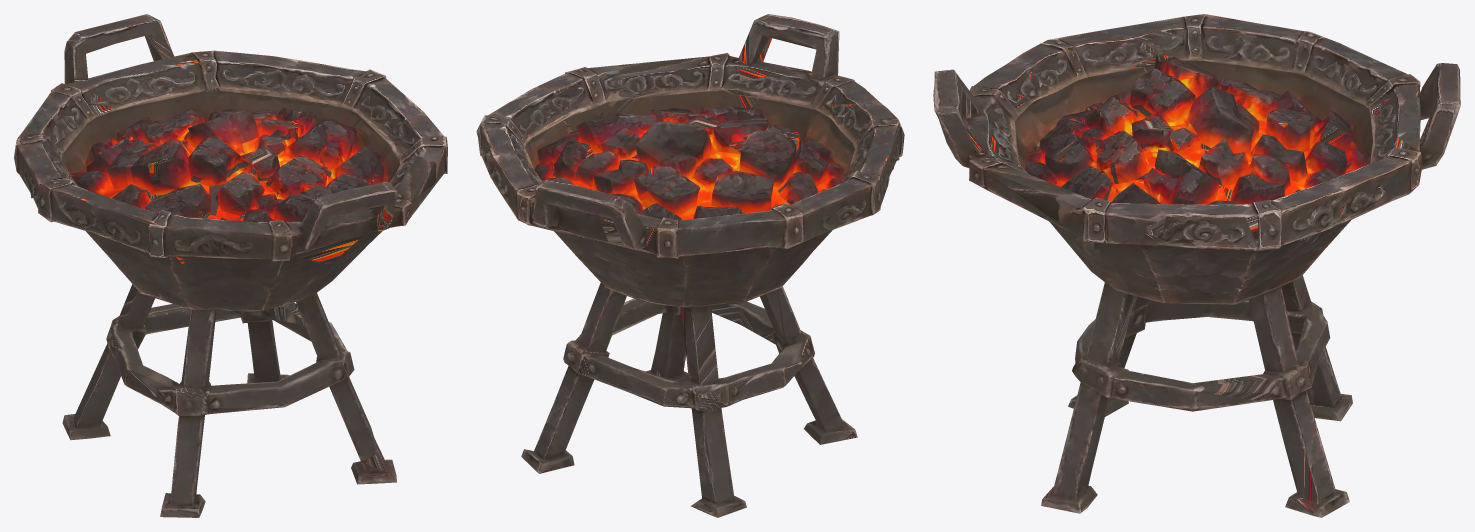
The model's file is prop_brazier.ca89e9ed.glb.
3 renders of one model, left to right at view 1: azimuth 30°, elevation 25°; view 2: azimuth 150°, elevation 25°; view 3: azimuth 270°, elevation 25°, orthographic. The views are drawn at different scales.
Parts seen in each view (by area): view 1: tripo_node_0b1d24e6-60d5-4608-a241-081a331734d5; view 2: tripo_node_0b1d24e6-60d5-4608-a241-081a331734d5; view 3: tripo_node_0b1d24e6-60d5-4608-a241-081a331734d5.
Boxes of the visible parts, <box> form: tripo_node_0b1d24e6-60d5-4608-a241-081a331734d5: <box>14,14,447,517</box>; tripo_node_0b1d24e6-60d5-4608-a241-081a331734d5: <box>476,14,904,517</box>; tripo_node_0b1d24e6-60d5-4608-a241-081a331734d5: <box>933,14,1460,517</box>.
Bounding box in the file's own units: 1.6 × 1.4 × 1.78.
1 material, 1 textured.
